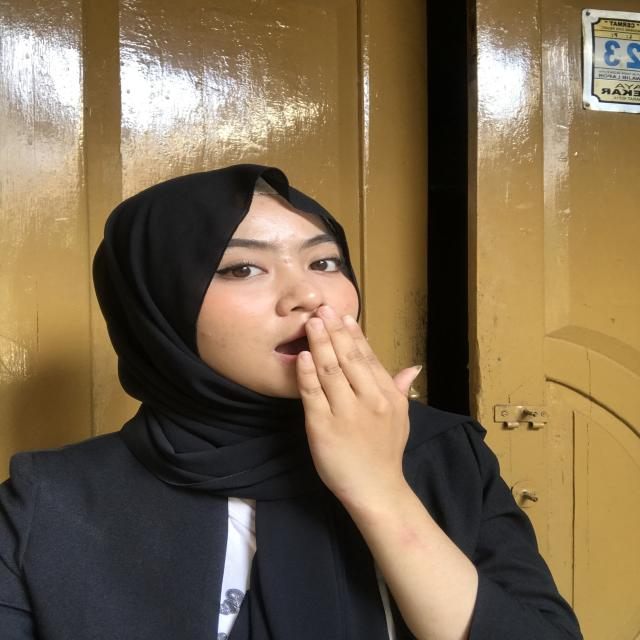ngantuk: (254, 307, 447, 547)
